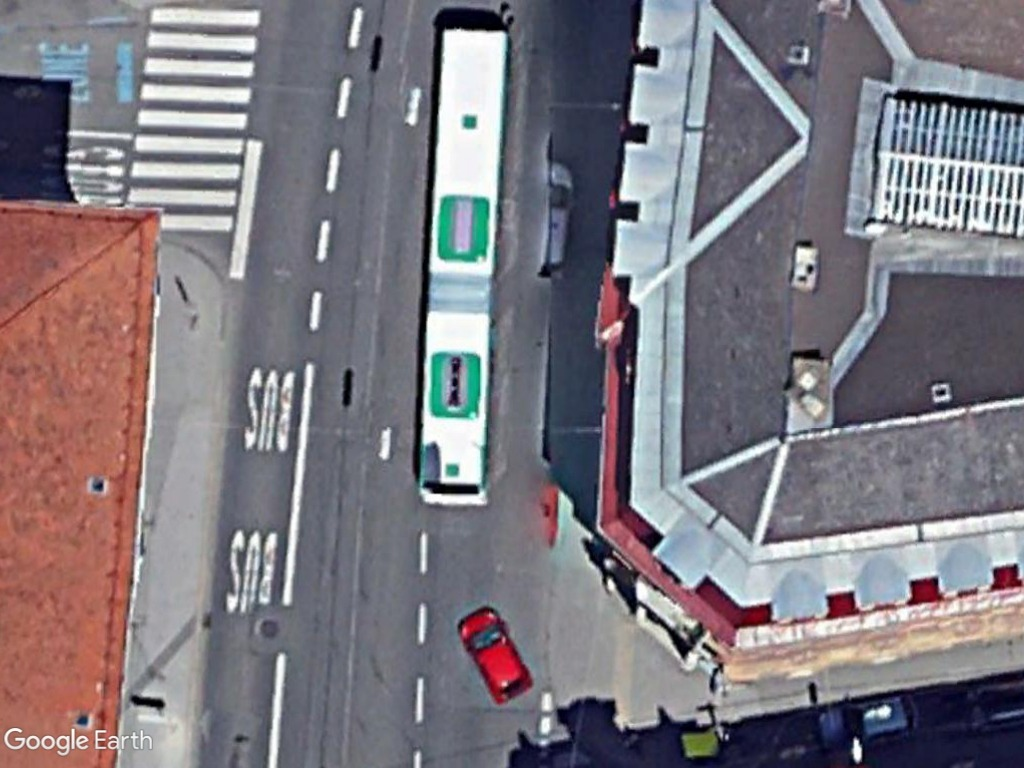bus: (414, 21, 514, 284), (413, 300, 498, 509)
car: (448, 604, 537, 709), (809, 690, 923, 756)
